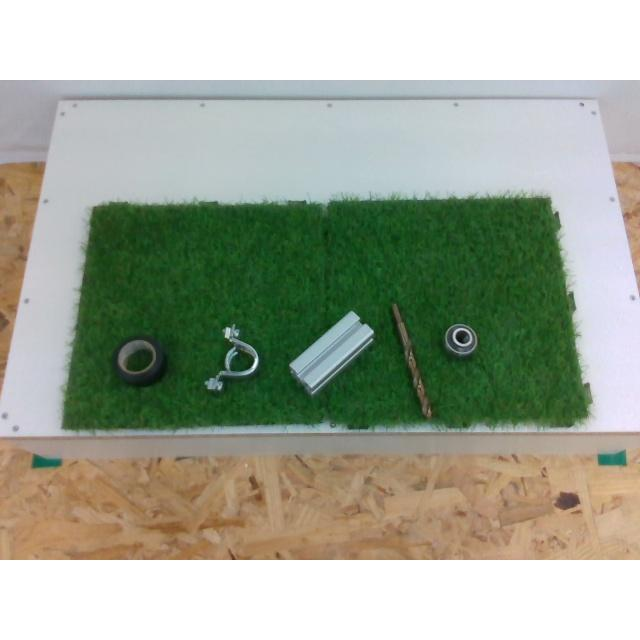Bearing2: (444, 323, 476, 353)
Drill: (392, 302, 432, 418)
Housing: (204, 326, 260, 390)
S40_40_G: (288, 312, 372, 392)
